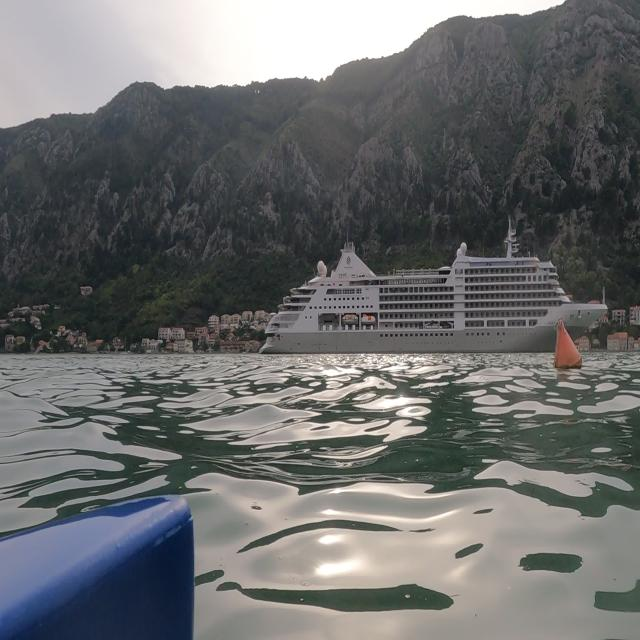boat: (257, 215, 609, 358)
buoy: (545, 308, 592, 390)
